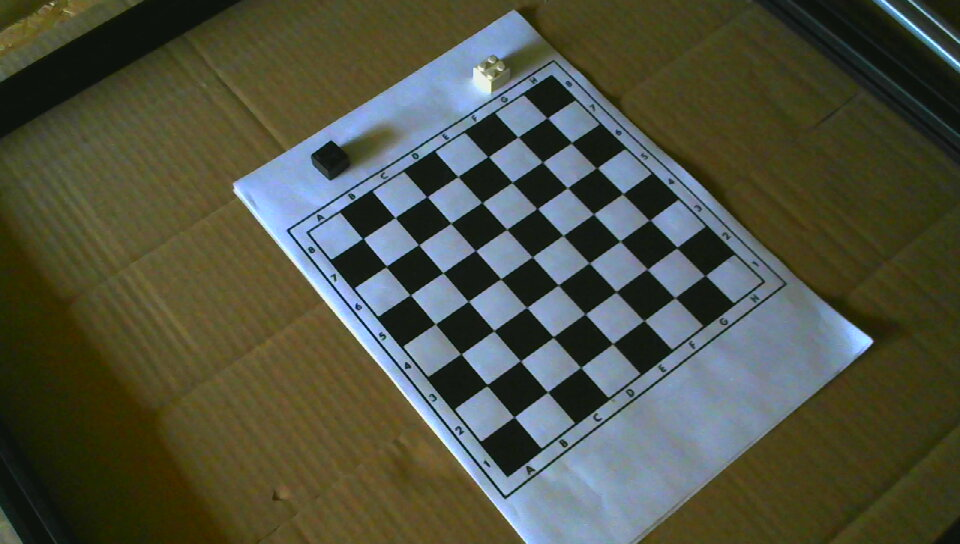bp: (311, 140, 351, 180)
wp: (473, 54, 511, 94)
